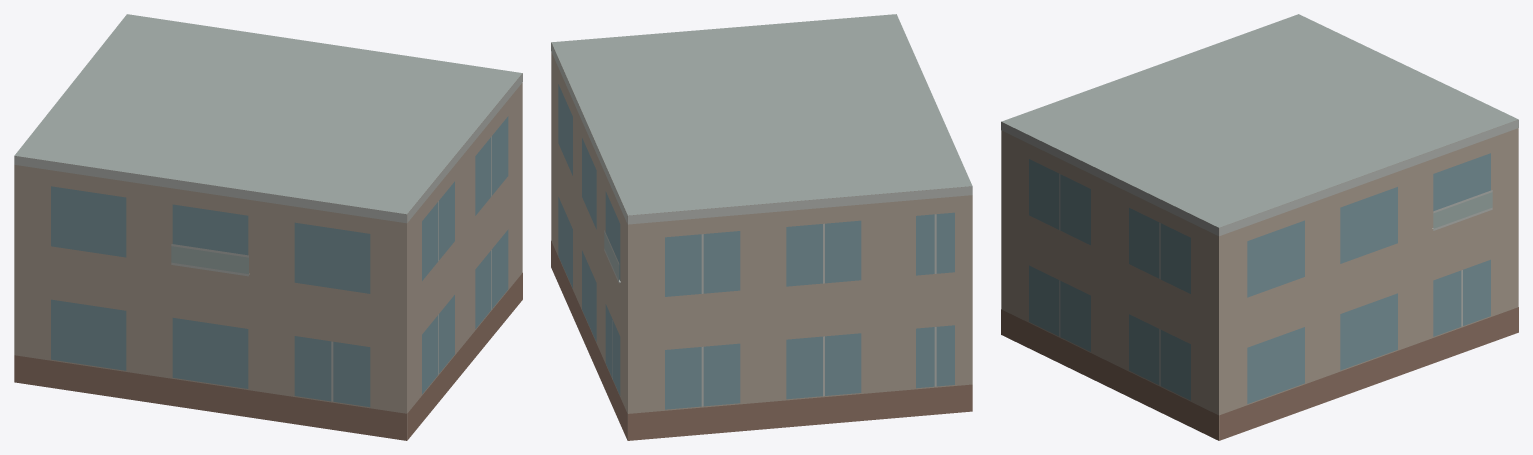
File: survey-upis-32894048.glb
3 renders of one model, left to right at view 1: azimuth 30°, elevation 25°; view 2: azimuth 150°, elevation 25°; view 3: azimuth 270°, elevation 25°, orthographic. The views are drawn at different scales.
Visible parts, largest first — view 1: survey-upis-32894048.tmp; view 2: survey-upis-32894048.tmp; view 3: survey-upis-32894048.tmp.
Boxes of the visible parts, x1=… form: survey-upis-32894048.tmp: x1=14, y1=14, x2=522, y2=440; survey-upis-32894048.tmp: x1=551, y1=14, x2=972, y2=440; survey-upis-32894048.tmp: x1=1001, y1=14, x2=1518, y2=440.
Size of the model in its own units: 13.14 by 6.1 by 13.44.
